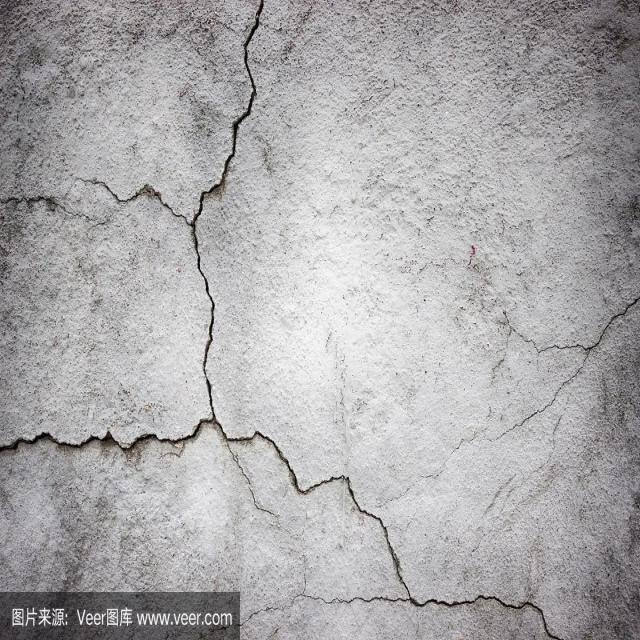wall_crack: (494, 296, 640, 441), (198, 0, 272, 222), (218, 416, 347, 496), (0, 414, 218, 458), (350, 478, 411, 597), (411, 594, 564, 640), (237, 592, 407, 631), (189, 230, 224, 416), (79, 174, 192, 224), (0, 186, 98, 226), (224, 444, 276, 516), (502, 312, 589, 352), (297, 520, 312, 594), (492, 329, 511, 379)
